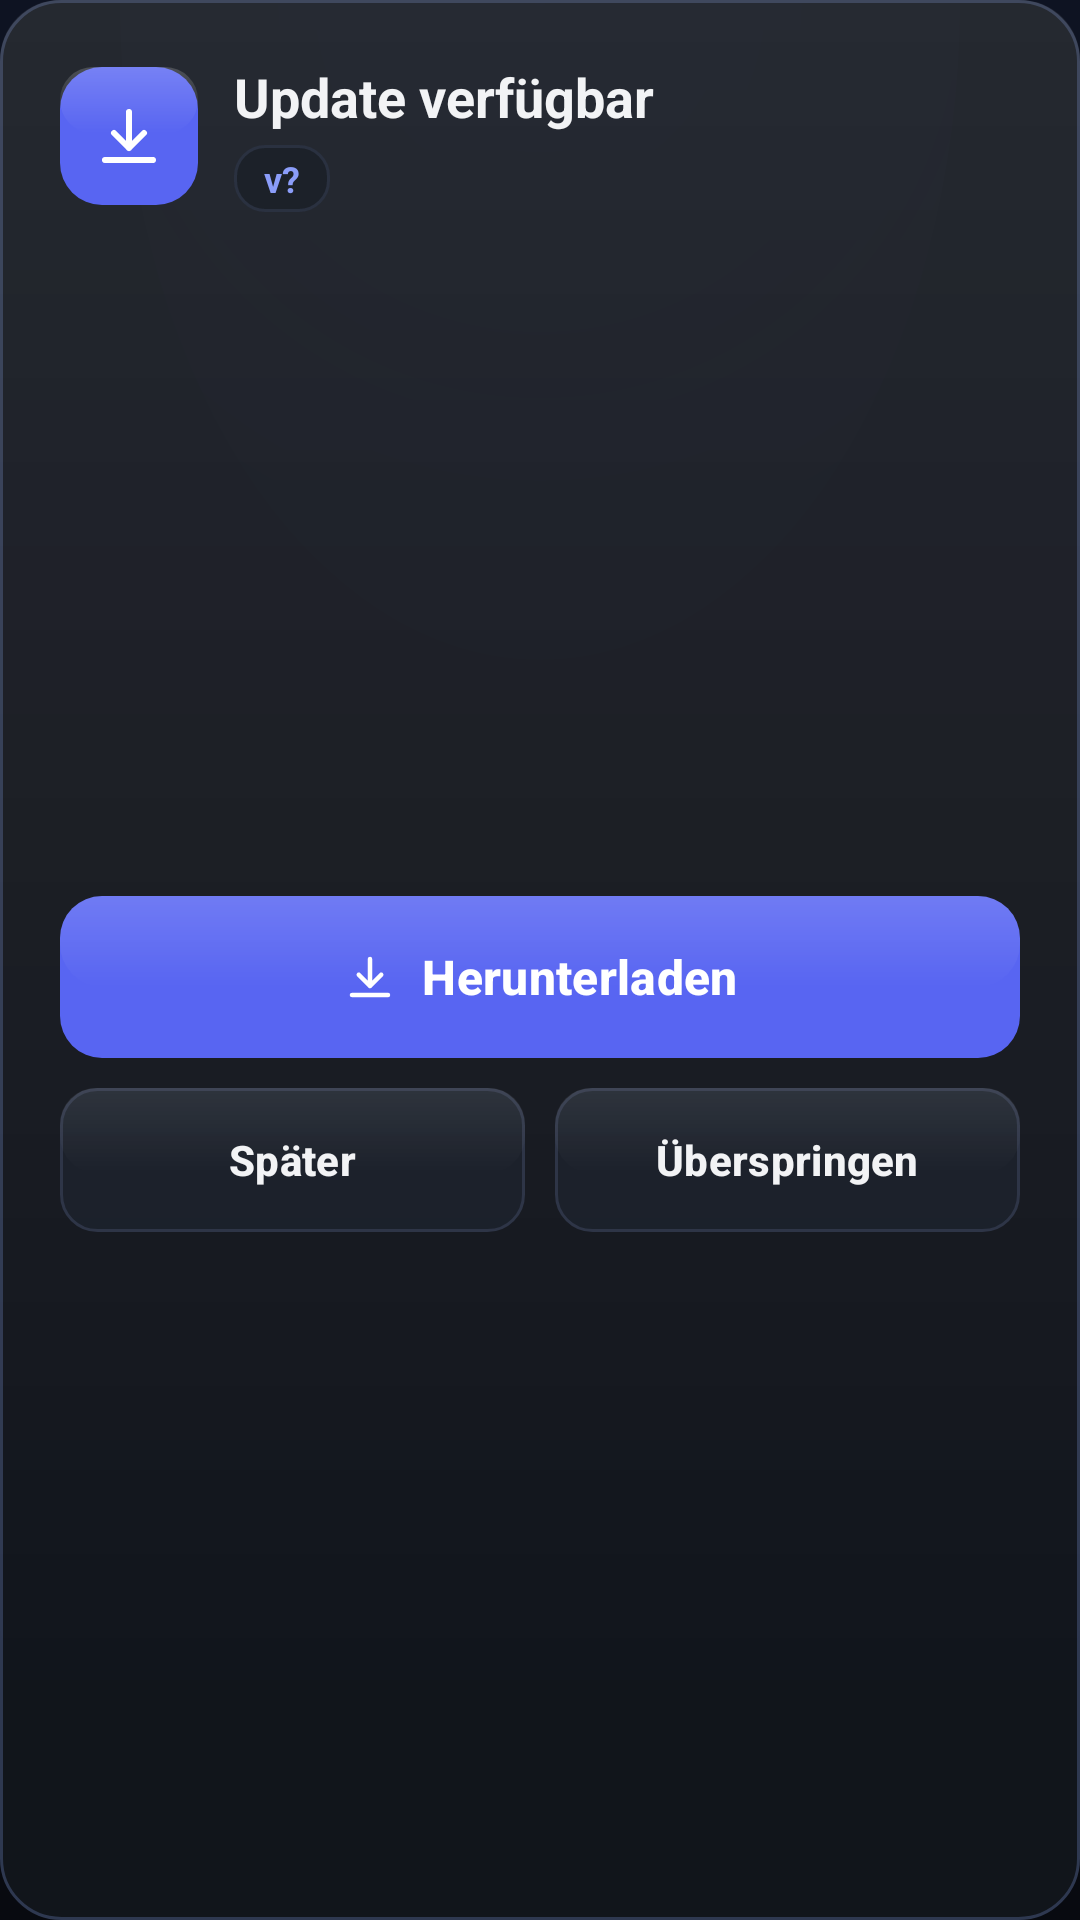

Named icons in this screenshot (1080px x 1920px) and their centers, point (x, y):
download: point (129, 136)
